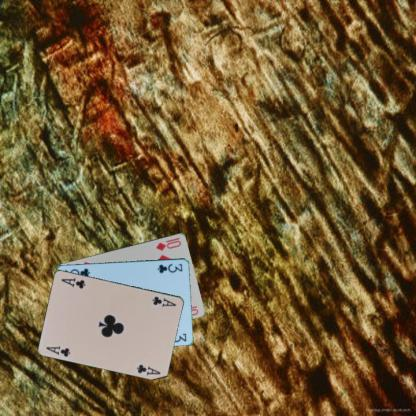10d: (154, 234, 182, 252)
3c: (155, 261, 184, 275)
Ac: (43, 343, 72, 358), (150, 293, 177, 308)
